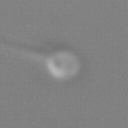normal: (1, 37, 47, 68)
